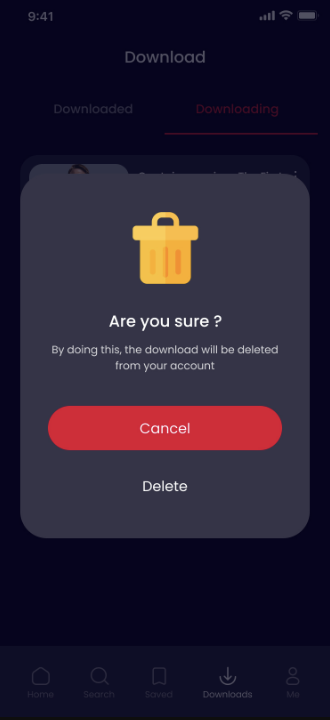Button: (48, 403, 284, 453)
